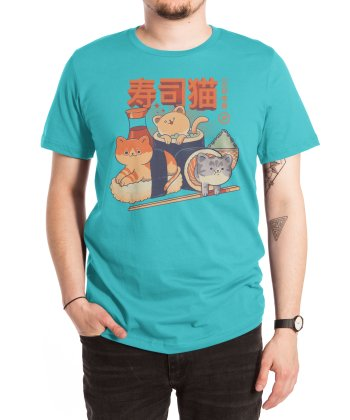design: (105, 72, 244, 214)
